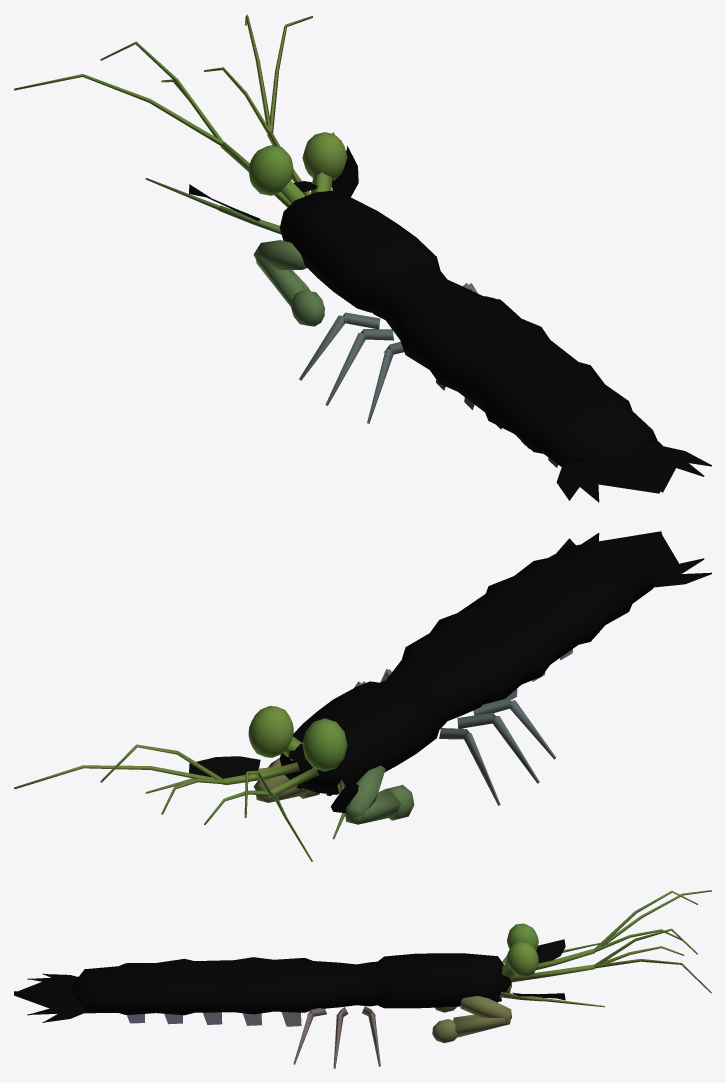
File: shrimp_mantis_game.glb
3 renders of one model, top to bottom at view 1: azimuth 30°, elevation 25°; view 2: azimuth 150°, elevation 25°; view 3: azimuth 270°, elevation 25°, orthographic. The views are drawn at different scales.
Parts seen in each view (by area): view 1: shrimp_mantis_game; view 2: shrimp_mantis_game; view 3: shrimp_mantis_game.
Boxes of the visible parts, x1,y1,x2,y2 form: shrimp_mantis_game: (14, 14, 711, 502); shrimp_mantis_game: (14, 531, 711, 861); shrimp_mantis_game: (14, 890, 711, 1068).
Bounding box in the file's own units: 0.0702 × 0.0395 × 0.2027.
